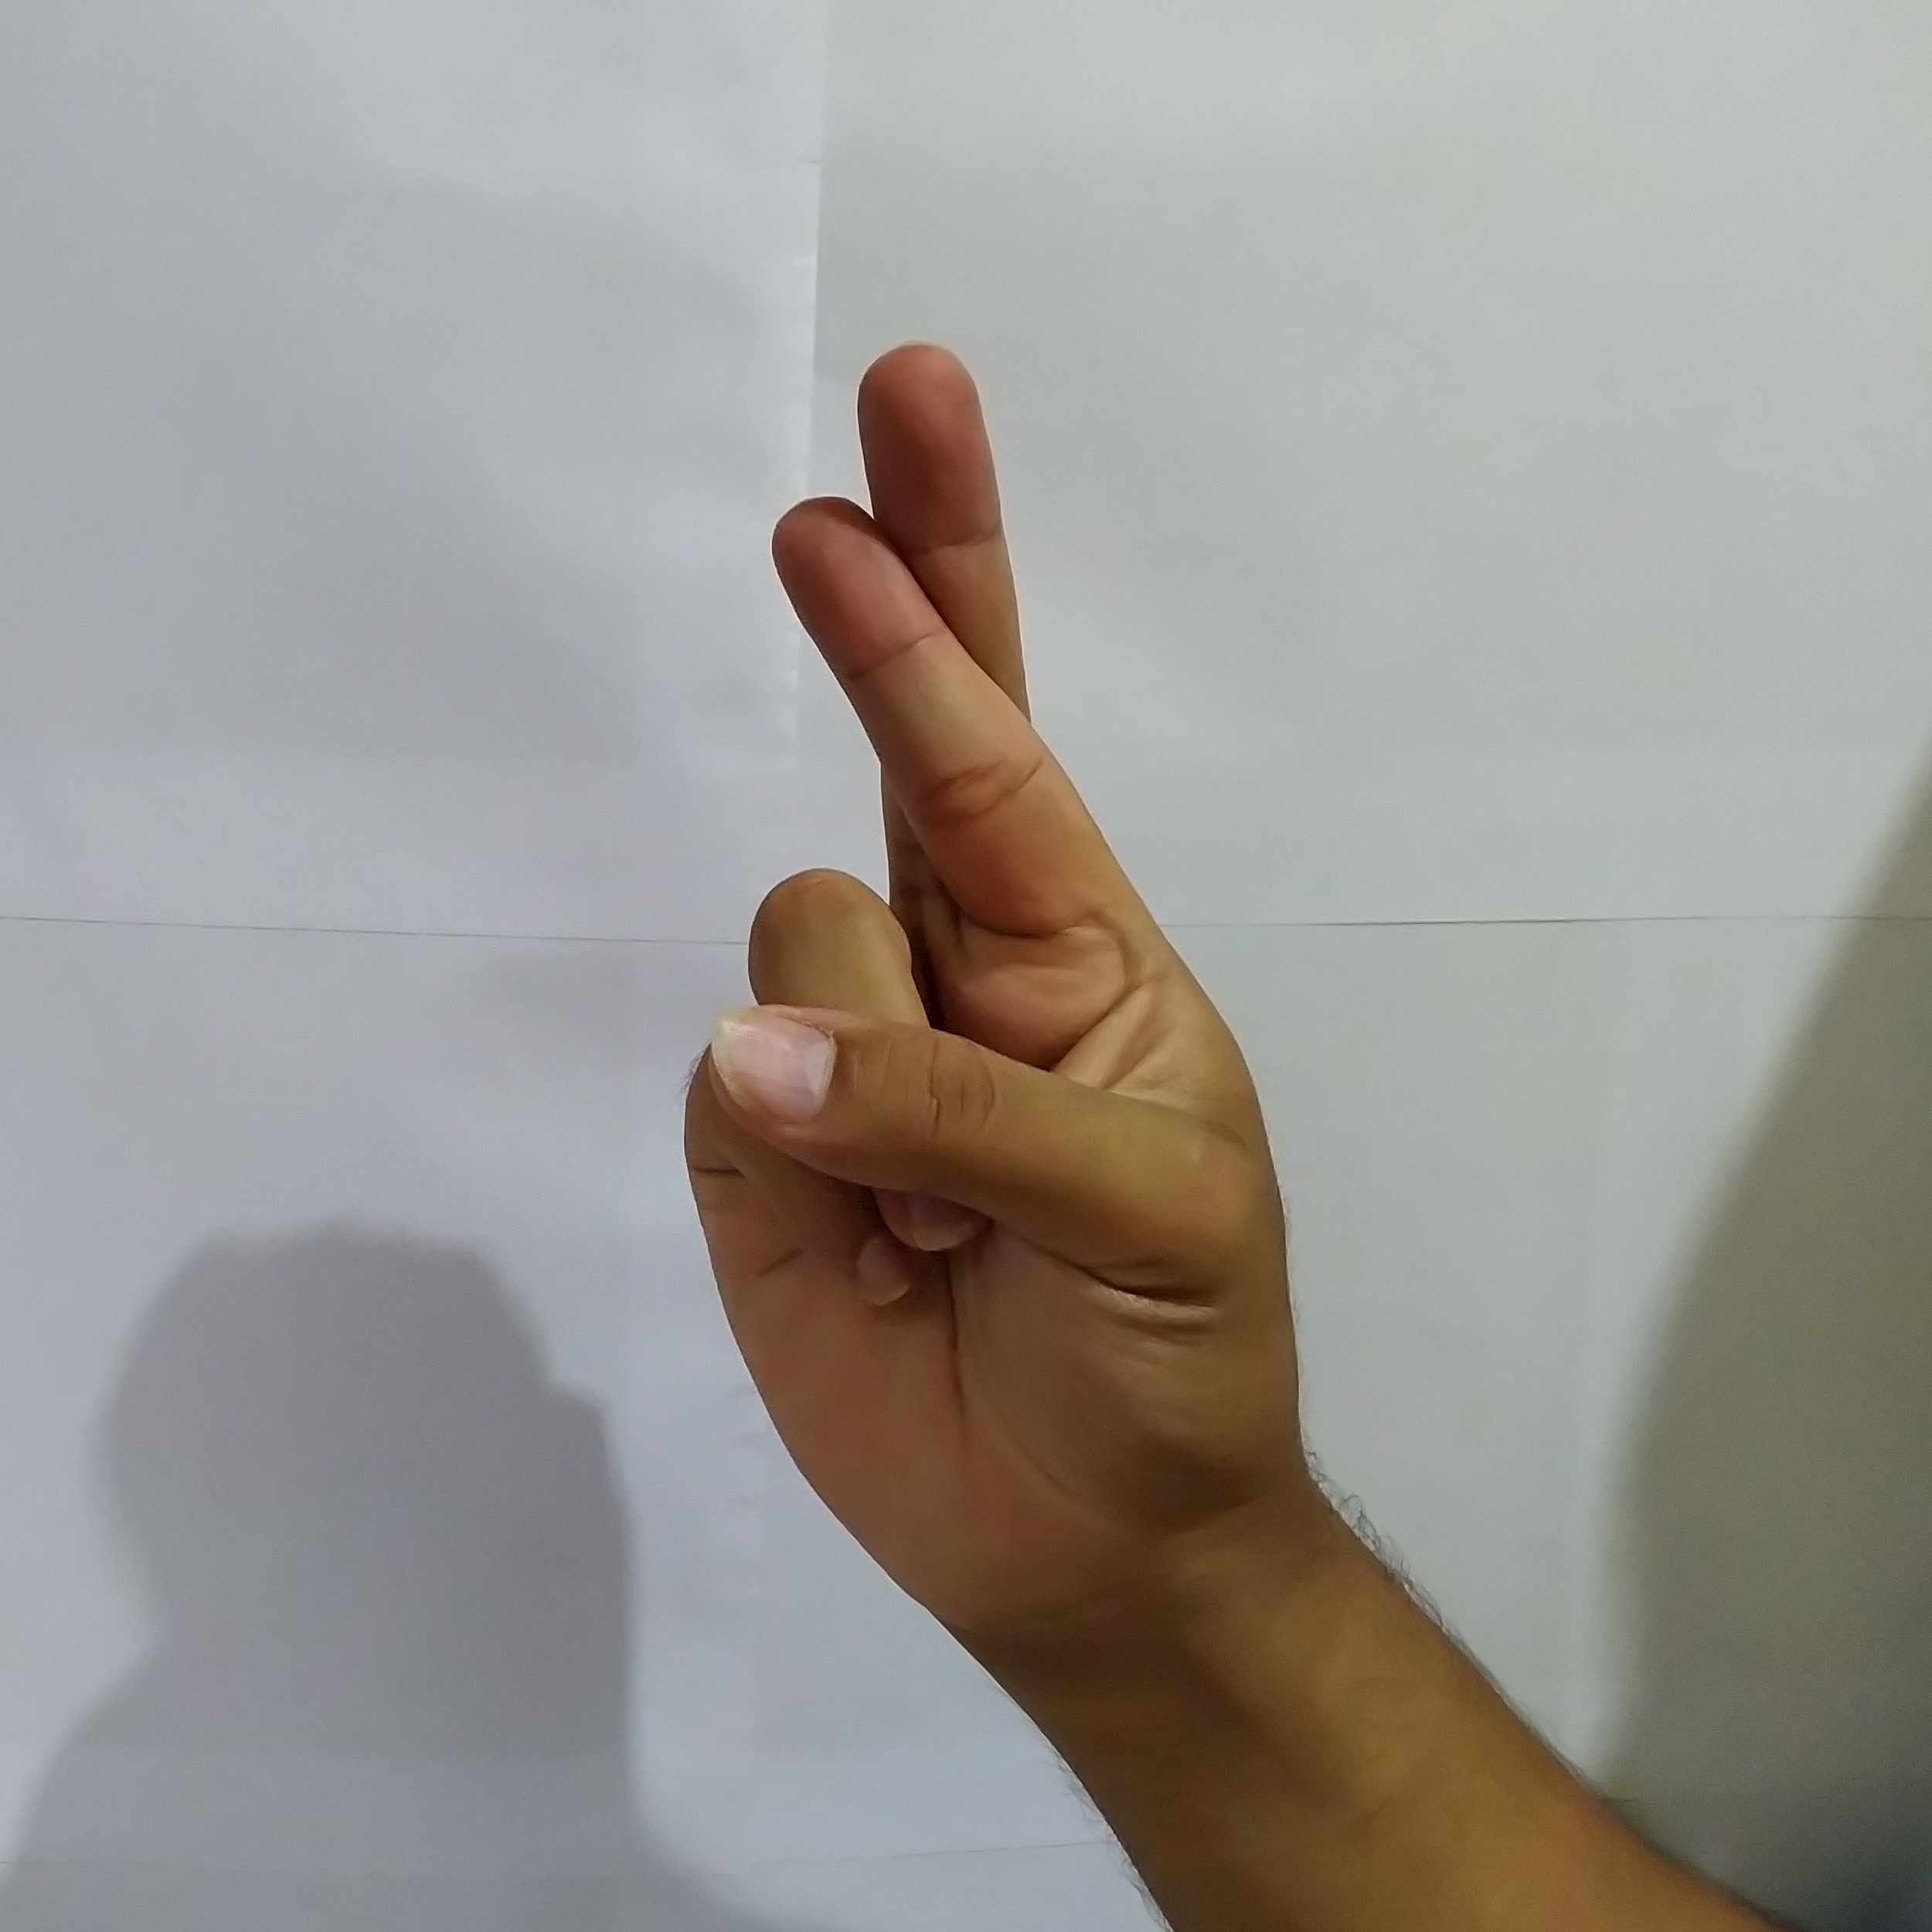R: (633, 317, 1339, 1555)
